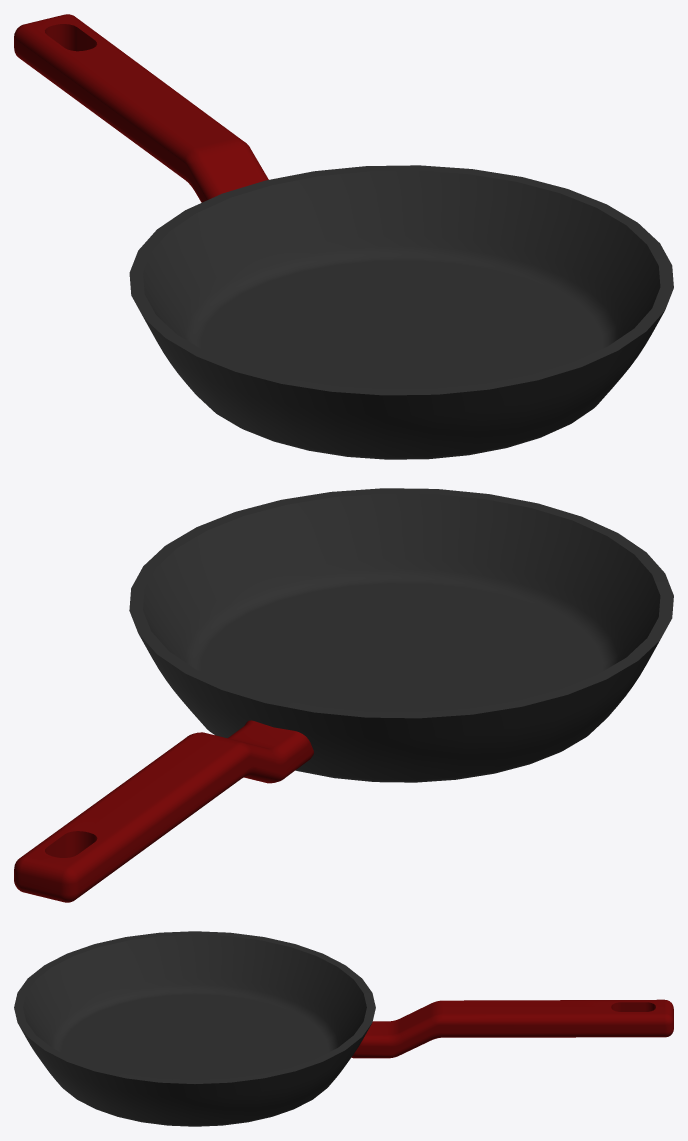
The model's file is Poele1_4.fbx.
The picture shows the model from 3 angles, top to bottom: view 1: azimuth 30°, elevation 25°; view 2: azimuth 150°, elevation 25°; view 3: azimuth 270°, elevation 25°; orthographic projection. The views are drawn at different scales.
Parts seen in each view (by area): view 1: pCylinder696, pCube1897; view 2: pCylinder696, pCube1897; view 3: pCylinder696, pCube1897.
Boxes of the visible parts, x1=… form: pCylinder696: x1=129, y1=165, x2=673, y2=459; pCube1897: x1=14, y1=14, x2=268, y2=202; pCylinder696: x1=129, y1=488, x2=673, y2=782; pCube1897: x1=14, y1=720, x2=313, y2=902; pCylinder696: x1=14, y1=931, x2=375, y2=1126; pCube1897: x1=351, y1=999, x2=673, y2=1058.
Size of the model in its own units: 31.75 by 6.01 by 57.89.
